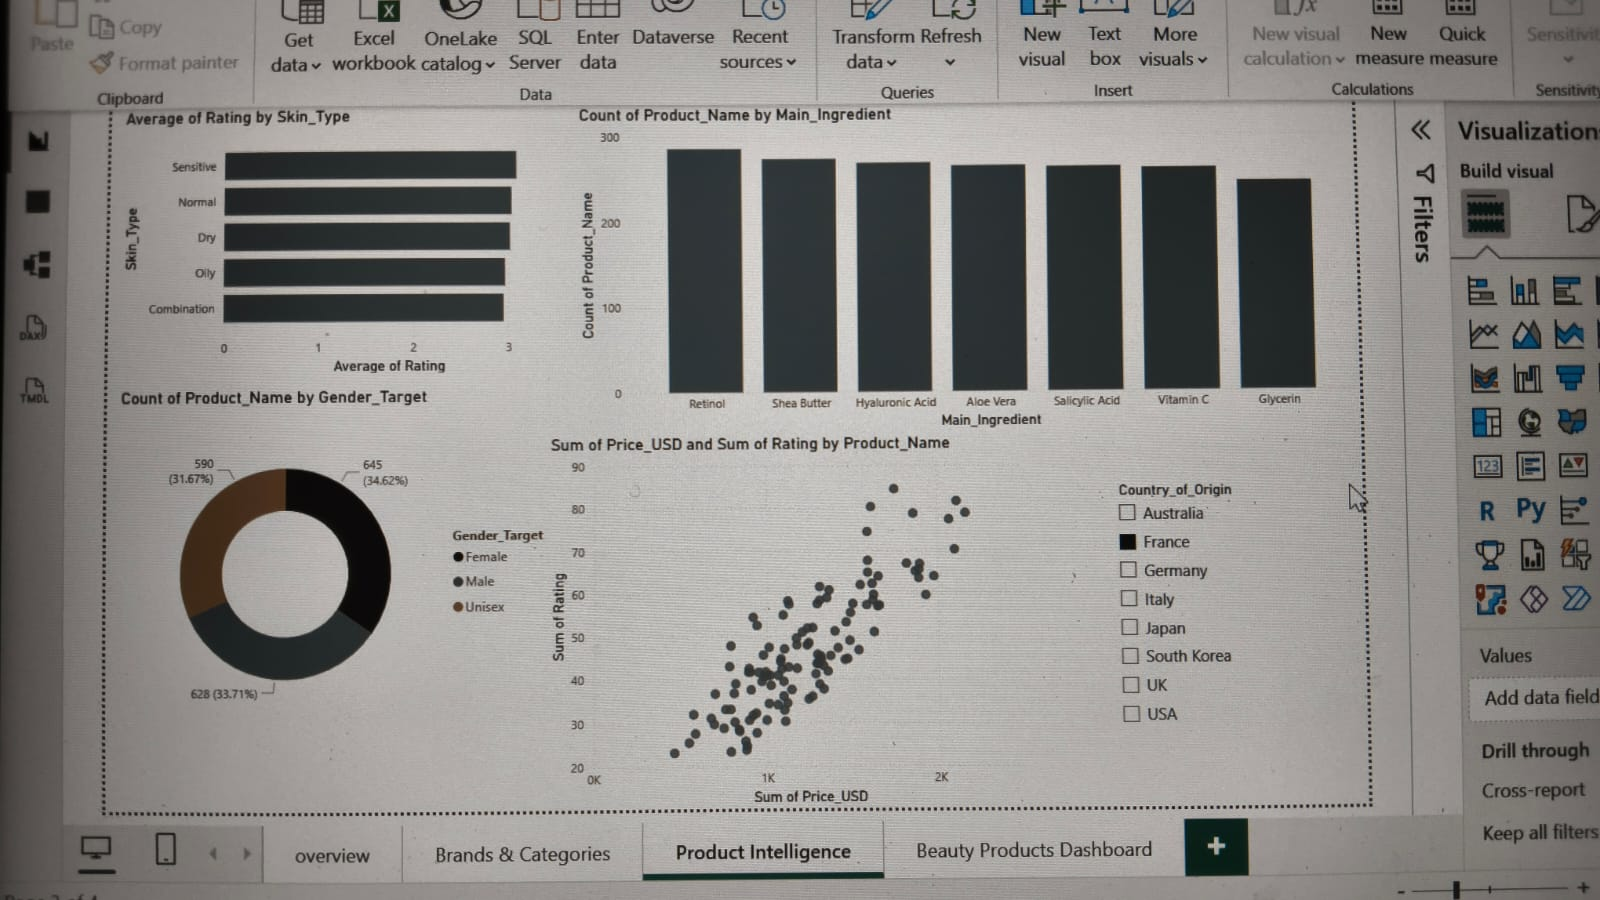

Layout of this report page (visuals, bound fields, positions):
{"tool":"powerbi","page":{"name":"Product Intelligence","canvas":[1280,720],"ordinal":2},"visuals":[{"type":"barChart","fields":{"Category":["make new.Skin_Type"],"Y":["Avg(make new.Rating)"]},"box":[9.7,0,456.6,280.1],"z":0},{"type":"donutChart","fields":{"Category":["make new.Gender_Target"],"Y":["CountNonNull(make new.Product_Name)"]},"box":[9.7,289.8,456.6,359.5],"z":1000},{"type":"columnChart","fields":{"Category":["make new.Main_Ingredient"],"Y":["CountNonNull(make new.Product_Name)"]},"box":[477.7,0,803.1,340],"z":2000},{"type":"scatterChart","fields":{"X":["Sum(make new.Price_USD)"],"Y":["Sum(make new.Rating)"],"Category":["make new.Product_Name"]},"box":[446.9,340,500.3,380.5],"z":3000},{"type":"slicer","fields":{"Values":["make new.Country_of_Origin"]},"box":[1020.1,387,187.8,262.3],"z":4000}]}

Visuals, with their boxes on the page's 1280x720 design canvas (x1, y1, x2, y2). These are canvas units, not pixel positions in the 1600x900 screenshot, which may show the page scaled, cropped or inside an application window:
barChart - make new.Skin_Type x Avg(make new.Rating): (10,0,466,280)
donutChart - make new.Gender_Target x CountNonNull(make new.Product_Name): (10,290,466,649)
columnChart - make new.Main_Ingredient x CountNonNull(make new.Product_Name): (478,0,1281,340)
scatterChart - Sum(make new.Price_USD) x Sum(make new.Rating): (447,340,947,720)
slicer - make new.Country_of_Origin: (1020,387,1208,649)
